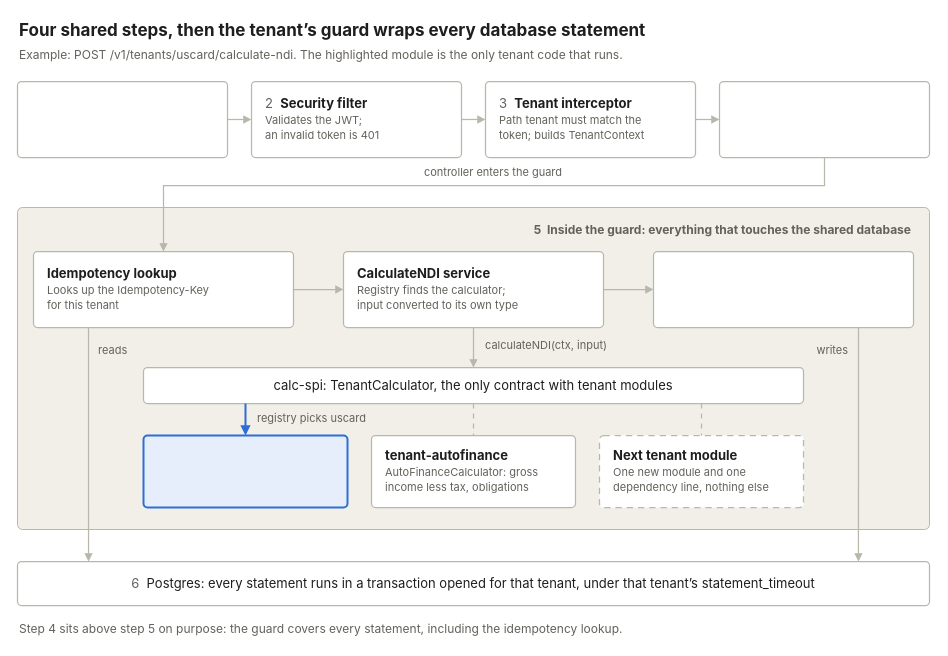
This 948x656 diagram has some shape labels left out. Here are the shapes that lost their labels. From the top down, the box of each, then its label:
(16, 80, 228, 158): 1 PayloadLimitFilter Caps the body before parsing; over the cap is 413
(718, 80, 930, 158): 4 Tenant guard Rate limit 429, concurrency limit 503; neither waits
(652, 250, 914, 328): Repository Stores the result for this tenant
(142, 434, 348, 508): tenant-uscard UsCardCalculator: net income less housing, debt, allowance
